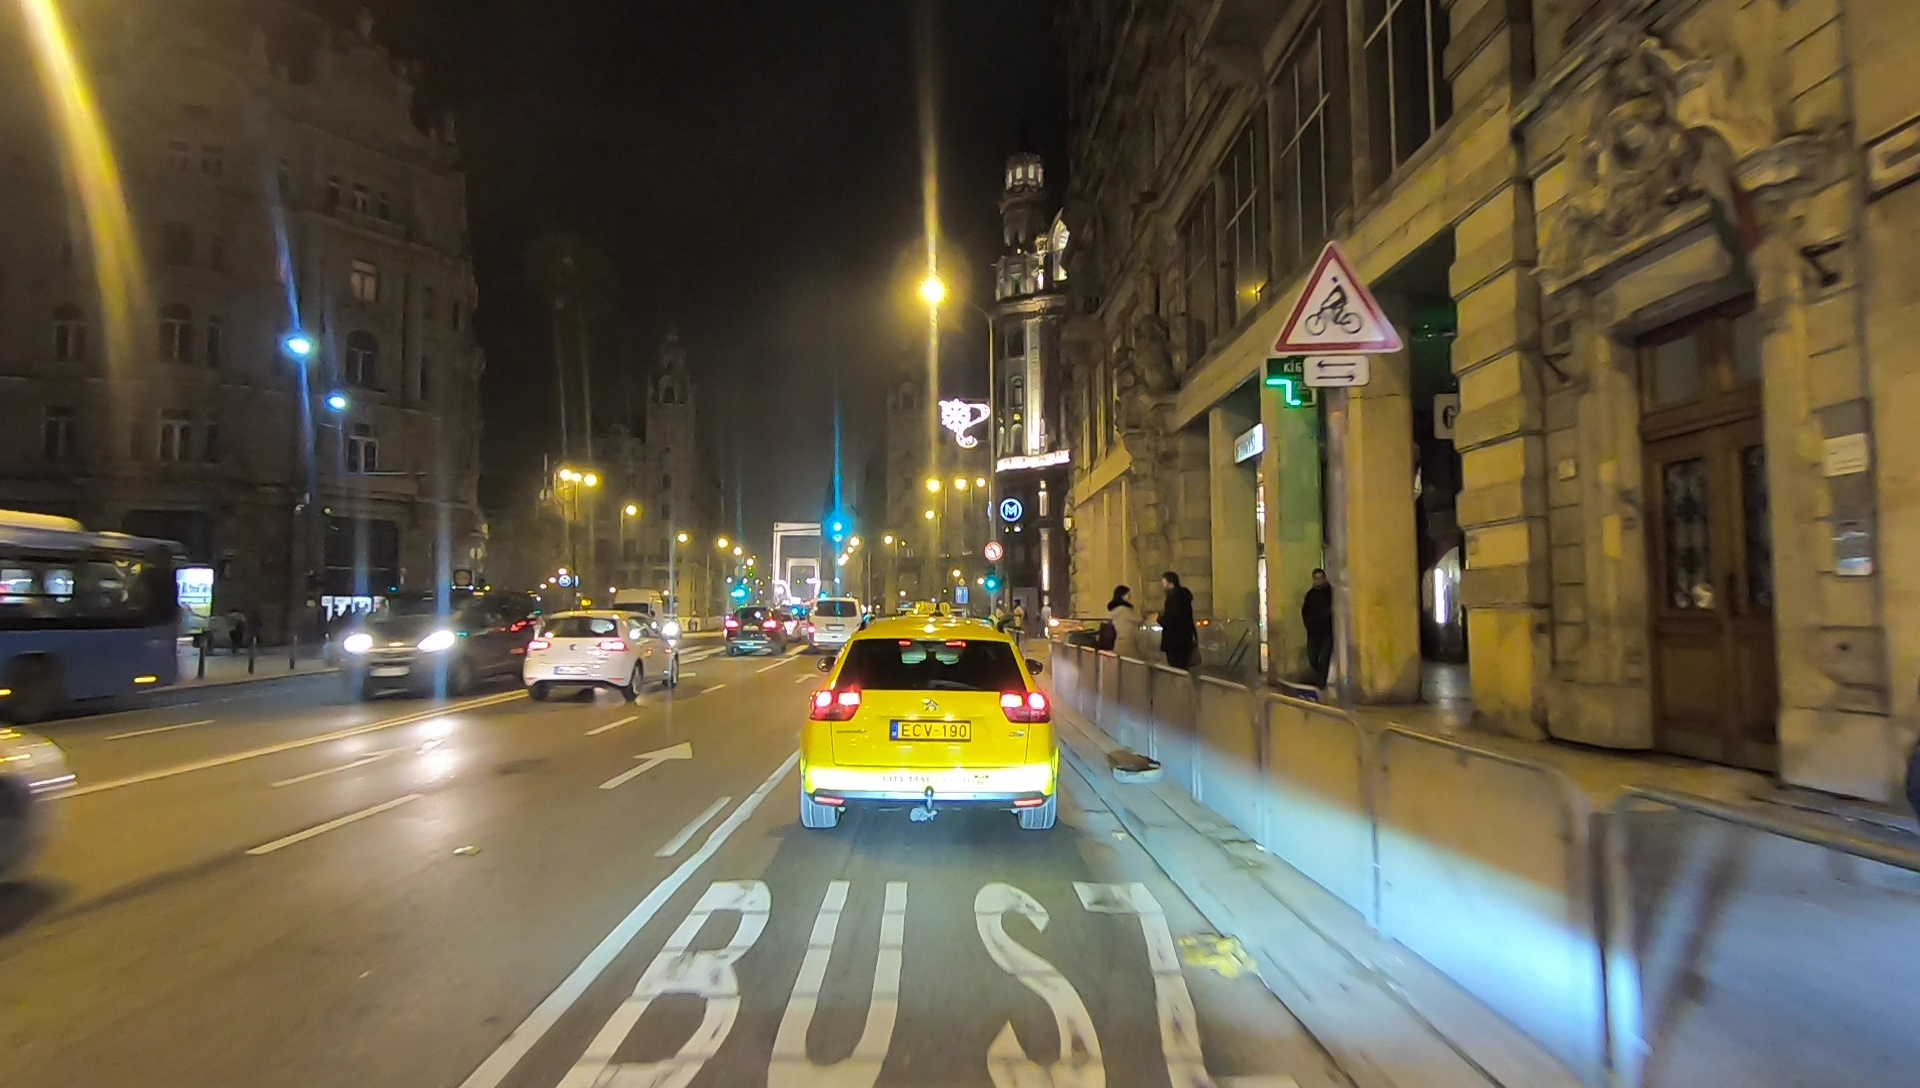person: (1157, 574, 1201, 707), (1301, 566, 1337, 707), (1105, 588, 1147, 704), (1012, 600, 1025, 647)
